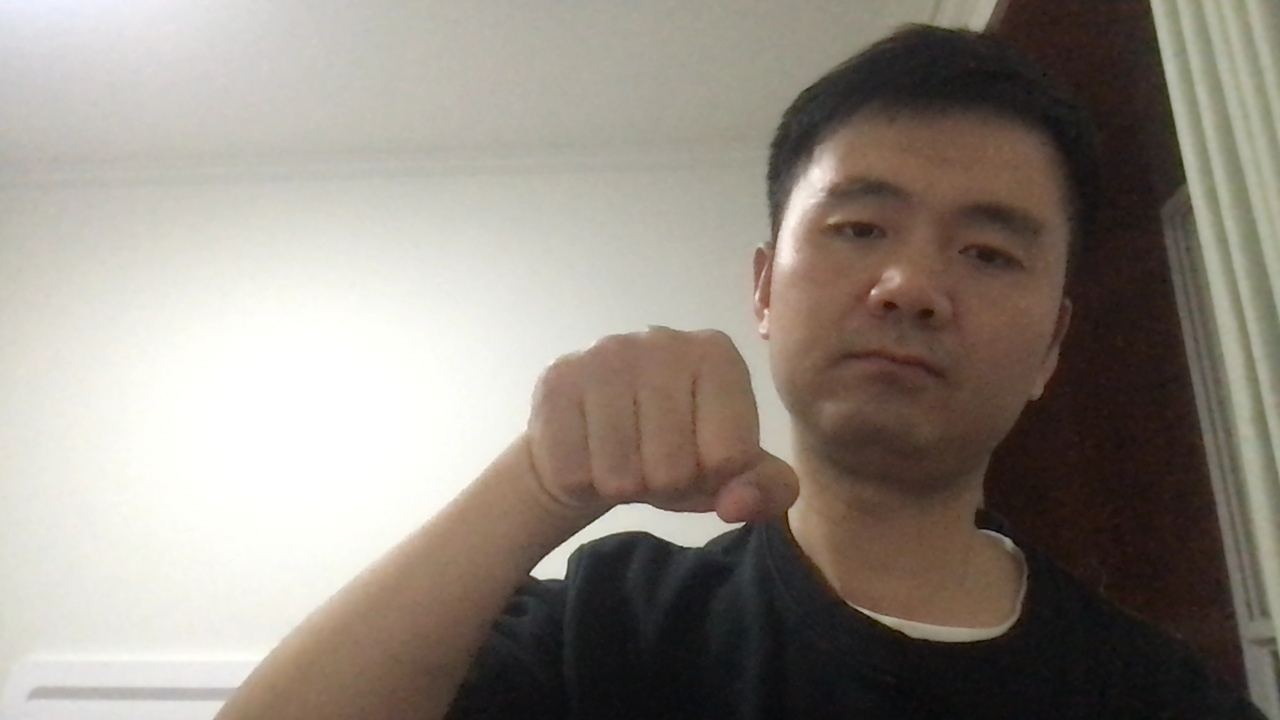ok: (509, 312, 811, 553)
